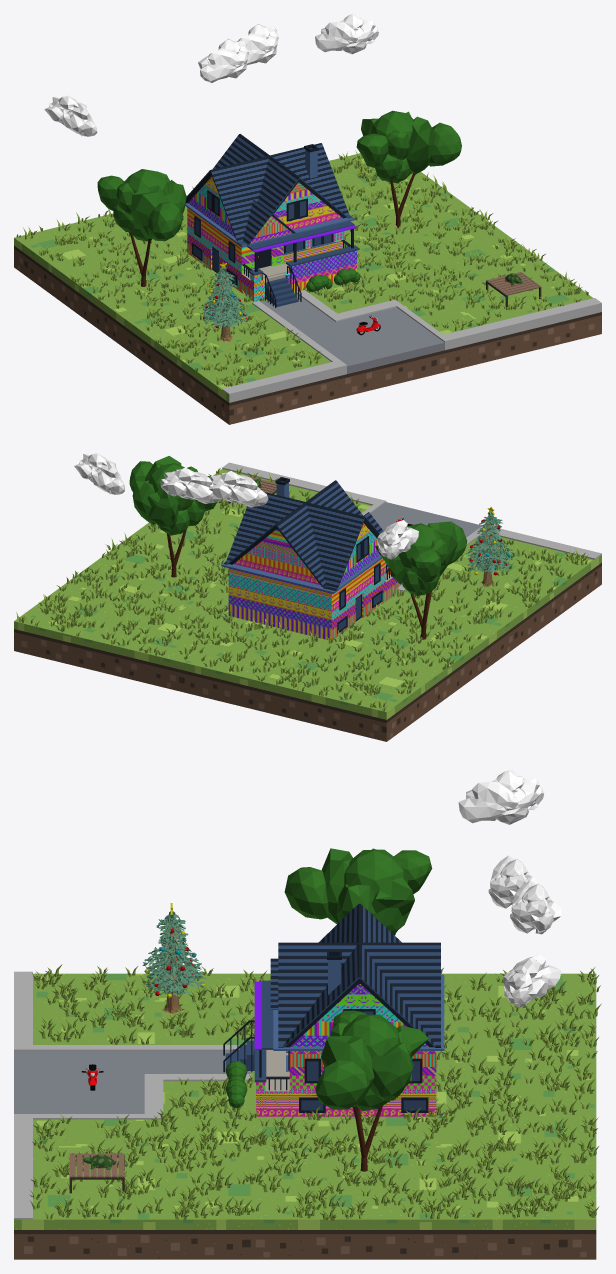
The picture shows the model from 3 angles, top to bottom: view 1: azimuth 30°, elevation 25°; view 2: azimuth 150°, elevation 25°; view 3: azimuth 270°, elevation 25°; orthographic projection. The views are drawn at different scales.
Parts seen in each view (by area): view 1: Cube.006, Cube.676, Circle.012_Grass_0.192, Cube.007, tree, tree.001, OBJRANDOM_CHRISTMAS_TREE, Cube.009; view 2: Cube.006, Cube.676, Circle.012_Grass_0.192, Cube.007, tree.001, tree, OBJRANDOM_CHRISTMAS_TREE; view 3: Cube.006, Circle.012_Grass_0.192, Cube.676, tree, Cube.007, tree.001, OBJRANDOM_CHRISTMAS_TREE, Cube.009.
Boxes of the visible parts, bbox=[...] form: Cube.006: bbox=[14, 153, 601, 424]; Cube.676: bbox=[185, 134, 359, 307]; Circle.012_Grass_0.192: bbox=[16, 150, 588, 386]; Cube.007: bbox=[44, 14, 378, 136]; tree: bbox=[356, 110, 461, 228]; tree.001: bbox=[97, 169, 186, 286]; OBJRANDOM_CHRISTMAS_TREE: bbox=[199, 262, 249, 341]; Cube.009: bbox=[486, 272, 541, 306]; Cube.006: bbox=[14, 462, 601, 741]; Cube.676: bbox=[221, 477, 398, 640]; Circle.012_Grass_0.192: bbox=[16, 468, 588, 711]; Cube.007: bbox=[74, 453, 418, 559]; tree.001: bbox=[375, 521, 467, 639]; tree: bbox=[129, 456, 216, 577]; OBJRANDOM_CHRISTMAS_TREE: bbox=[465, 506, 512, 587]; Cube.006: bbox=[14, 971, 596, 1259]; Circle.012_Grass_0.192: bbox=[29, 964, 601, 1220]; Cube.676: bbox=[223, 903, 444, 1116]; tree: bbox=[315, 1010, 428, 1171]; Cube.007: bbox=[458, 770, 561, 1007]; tree.001: bbox=[284, 848, 432, 935]; OBJRANDOM_CHRISTMAS_TREE: bbox=[142, 903, 205, 1014]; Cube.009: bbox=[69, 1153, 124, 1193].
Bounding box in the file's own units: 4071 × 2179 × 4040.
40 materials, 7 textured.
